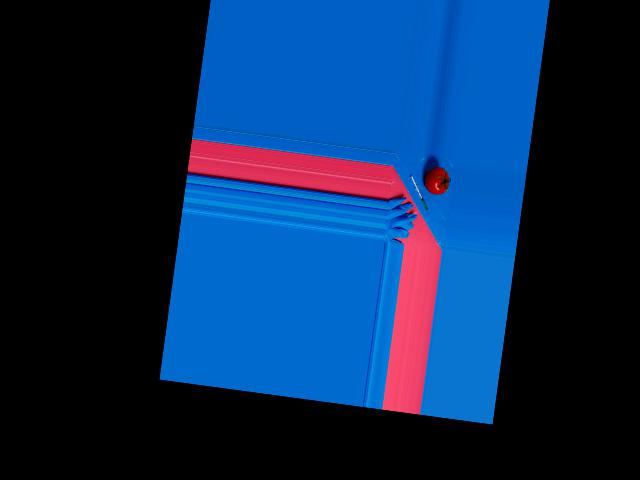tomato: (422, 166, 450, 196)
